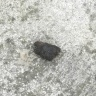Dog: (33, 39, 62, 62)
